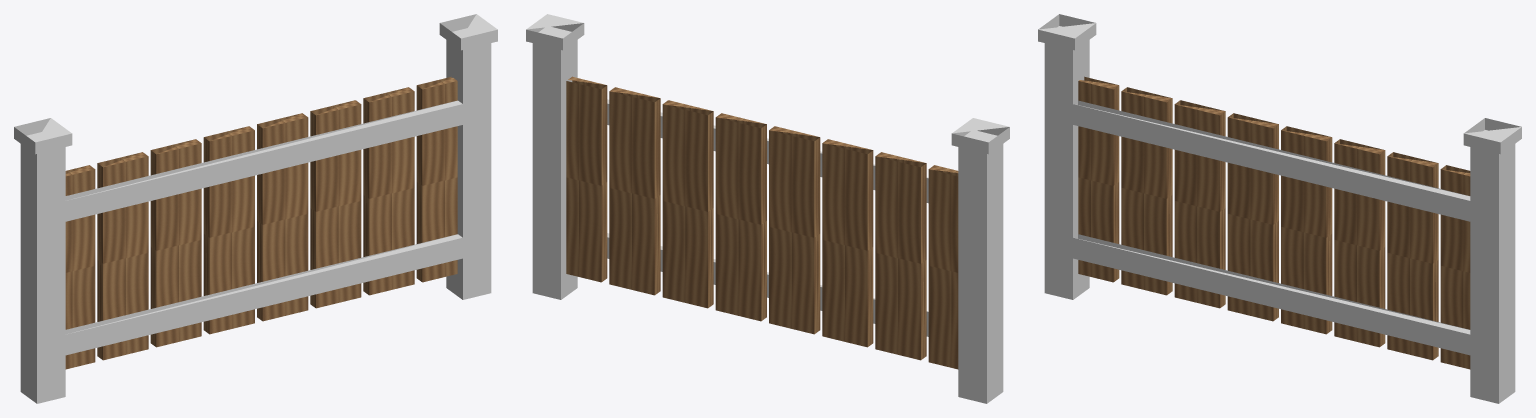
The model's file is Western_Plank_Wall_Segment.fbx.
The picture shows the model from 3 angles, left to right: view 1: azimuth 30°, elevation 25°; view 2: azimuth 150°, elevation 25°; view 3: azimuth 330°, elevation 25°; orthographic projection.
Visible parts, largest first — view 1: Western_Plank_Wall_Segment, Western_Plank_Wall_Segment_Post_L, Western_Plank_Wall_Segment_Rail_Bottom, Western_Plank_Wall_Segment_Rail_Top, Western_Plank_Wall_Segment_Post_R, Western_Plank_Wall_Segment_Cap_R, Western_Plank_Wall_Segment_Cap_L; view 2: Western_Plank_Wall_Segment, Western_Plank_Wall_Segment_Post_L, Western_Plank_Wall_Segment_Post_R, Western_Plank_Wall_Segment_Cap_L, Western_Plank_Wall_Segment_Cap_R, Western_Plank_Wall_Segment_Rail_Top, Western_Plank_Wall_Segment_Rail_Bottom; view 3: Western_Plank_Wall_Segment, Western_Plank_Wall_Segment_Post_R, Western_Plank_Wall_Segment_Rail_Bottom, Western_Plank_Wall_Segment_Rail_Top, Western_Plank_Wall_Segment_Post_L, Western_Plank_Wall_Segment_Cap_L, Western_Plank_Wall_Segment_Cap_R.
Part boxes in pixels (x1,y1,x2,y2): Western_Plank_Wall_Segment: (65, 76, 457, 369); Western_Plank_Wall_Segment_Post_L: (20, 144, 65, 403); Western_Plank_Wall_Segment_Rail_Bottom: (51, 234, 476, 358); Western_Plank_Wall_Segment_Rail_Top: (51, 100, 474, 223); Western_Plank_Wall_Segment_Post_R: (446, 40, 491, 299); Western_Plank_Wall_Segment_Cap_R: (439, 14, 497, 50); Western_Plank_Wall_Segment_Cap_L: (14, 118, 72, 154); Western_Plank_Wall_Segment: (566, 76, 958, 369); Western_Plank_Wall_Segment_Post_L: (958, 132, 1003, 403); Western_Plank_Wall_Segment_Post_R: (532, 28, 577, 299); Western_Plank_Wall_Segment_Cap_L: (951, 118, 1009, 154); Western_Plank_Wall_Segment_Cap_R: (526, 14, 584, 50); Western_Plank_Wall_Segment_Rail_Top: (607, 99, 928, 203); Western_Plank_Wall_Segment_Rail_Bottom: (607, 233, 928, 336); Western_Plank_Wall_Segment: (1078, 76, 1470, 369); Western_Plank_Wall_Segment_Post_R: (1470, 144, 1515, 403); Western_Plank_Wall_Segment_Rail_Bottom: (1059, 234, 1484, 358); Western_Plank_Wall_Segment_Rail_Top: (1059, 100, 1484, 224); Western_Plank_Wall_Segment_Post_L: (1044, 40, 1089, 299); Western_Plank_Wall_Segment_Cap_L: (1038, 14, 1096, 50); Western_Plank_Wall_Segment_Cap_R: (1463, 118, 1521, 154).
Bounding box in the file's own units: 3.26 × 1.78 × 0.26.
2 materials, 1 textured.
